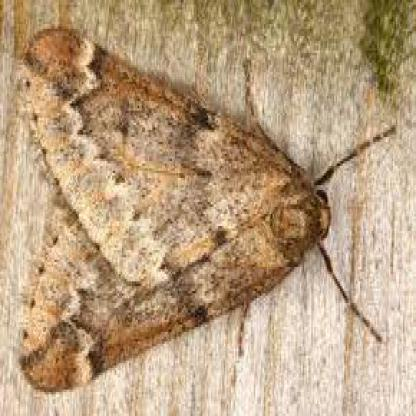Leaf Webber: (13, 26, 400, 395)
